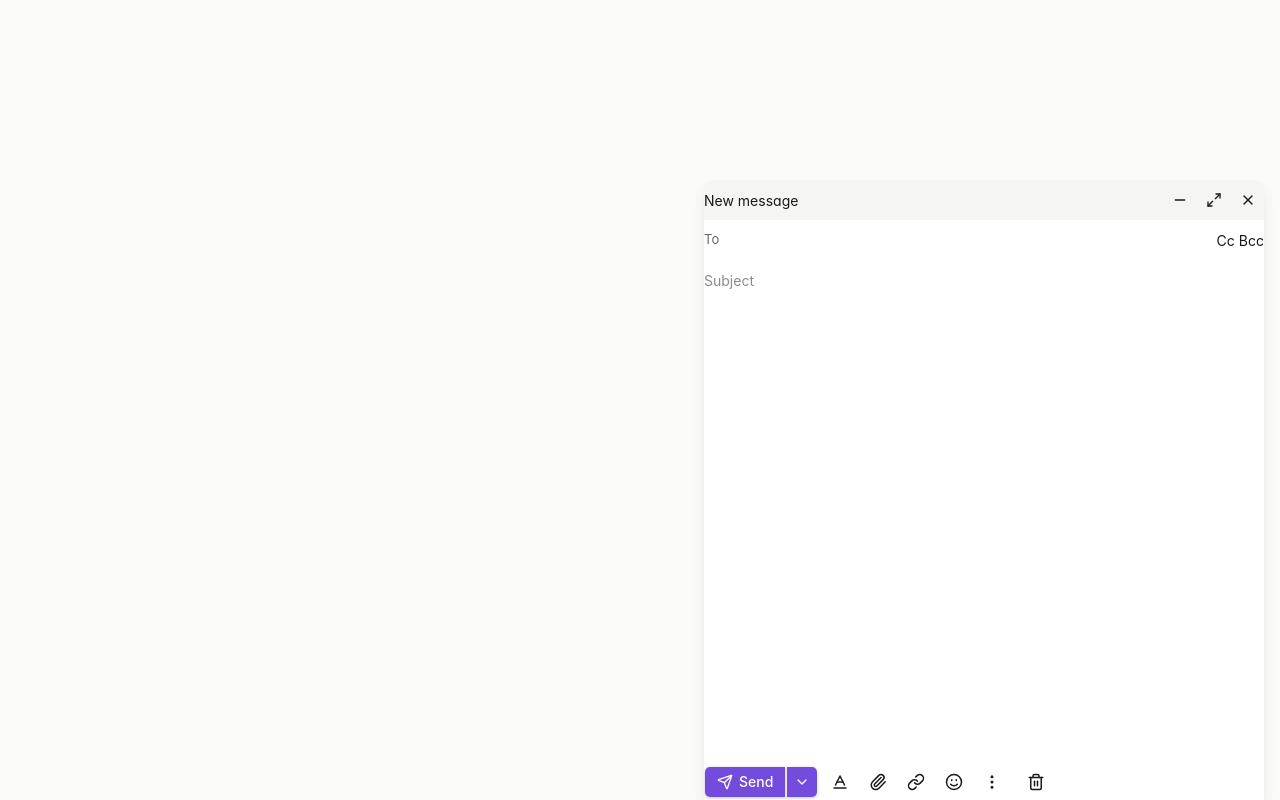
compose window › asks for a recipient before sending
The image size is (1280, 800).
Click the button "Send": coordinates (745, 782) [704,766,786,798]
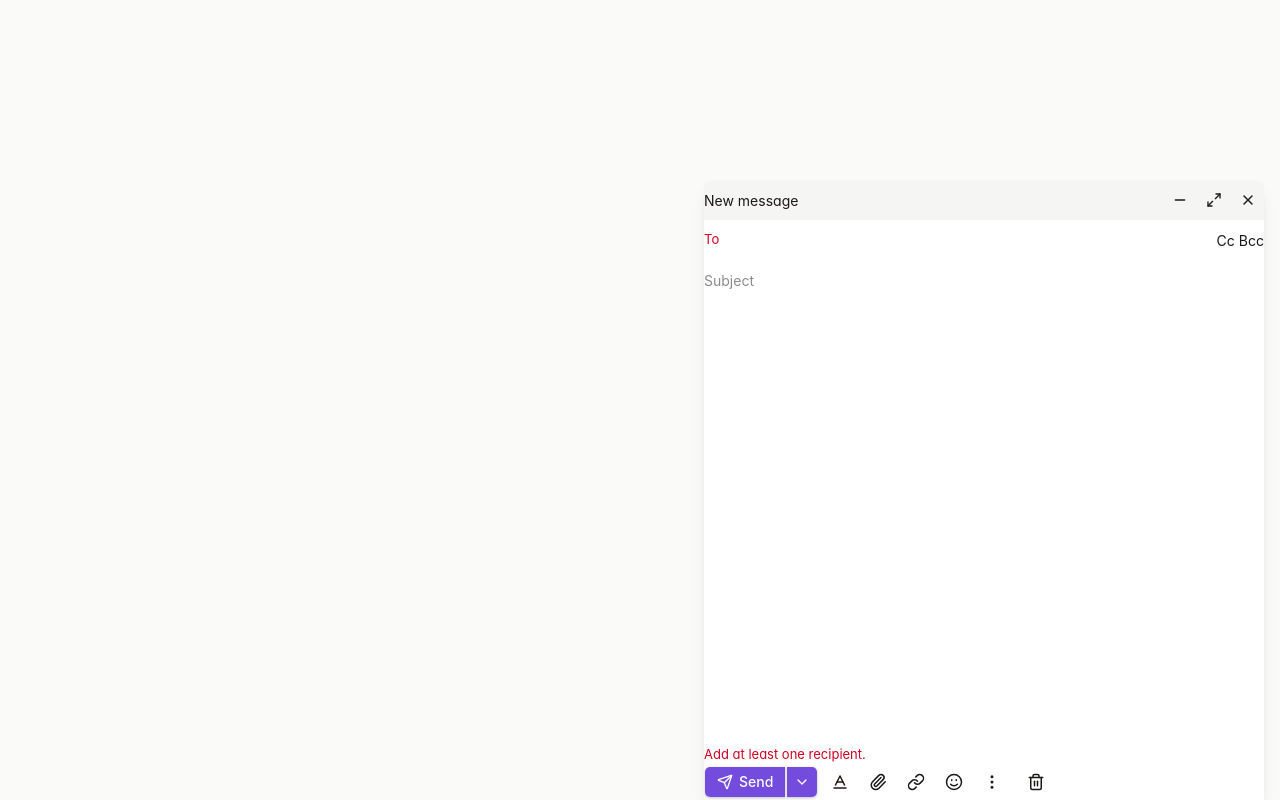
Check: the message "Add at least one recipient." is shown, box [704,746,866,762]
